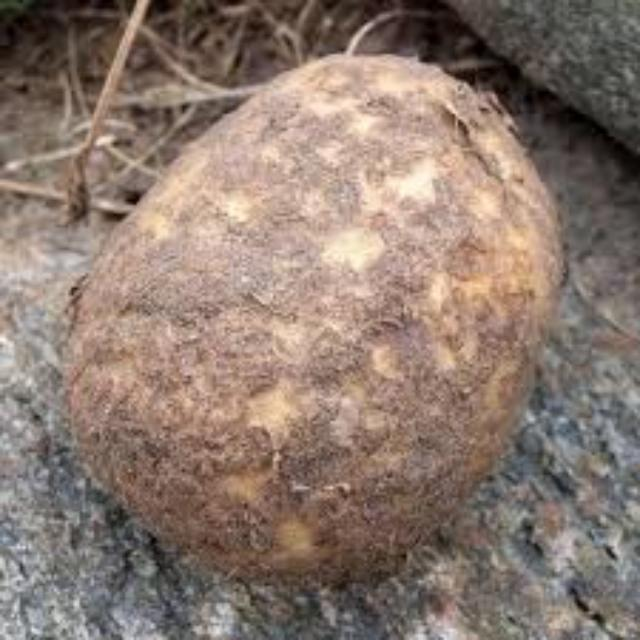Diseased-fungal potato: (58, 51, 556, 592)
